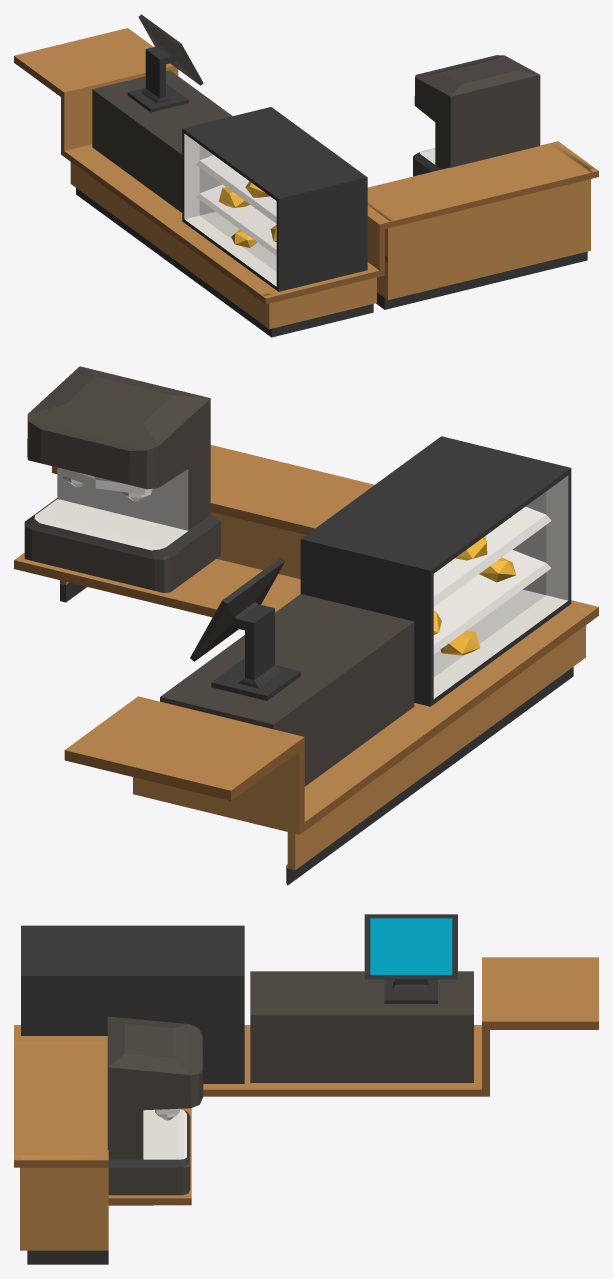
The model's file is table_reception.fbx.
The picture shows the model from 3 angles, top to bottom: view 1: azimuth 30°, elevation 25°; view 2: azimuth 150°, elevation 25°; view 3: azimuth 270°, elevation 25°; orthographic projection. The views are drawn at different scales.
Visible parts, largest first — view 1: Table, Bakery cabinet, POS machine, Coffee machine; view 2: Table, Bakery cabinet, Coffee machine, POS machine; view 3: Table, POS machine, Bakery cabinet, Coffee machine.
Part boxes in pixels (bbox=[...]): Table: bbox=[14, 28, 598, 337]; Bakery cabinet: bbox=[182, 107, 367, 291]; POS machine: bbox=[92, 14, 232, 212]; Coffee machine: bbox=[413, 55, 540, 176]; Table: bbox=[14, 445, 598, 885]; Bakery cabinet: bbox=[300, 436, 571, 706]; Coffee machine: bbox=[24, 366, 220, 592]; POS machine: bbox=[160, 557, 414, 786]; Table: bbox=[14, 957, 598, 1264]; POS machine: bbox=[250, 914, 473, 1082]; Bakery cabinet: bbox=[21, 925, 244, 1083]; Coffee machine: bbox=[107, 1016, 203, 1195].
Bounding box in the file's own units: 3 × 1.5 × 3.92.
